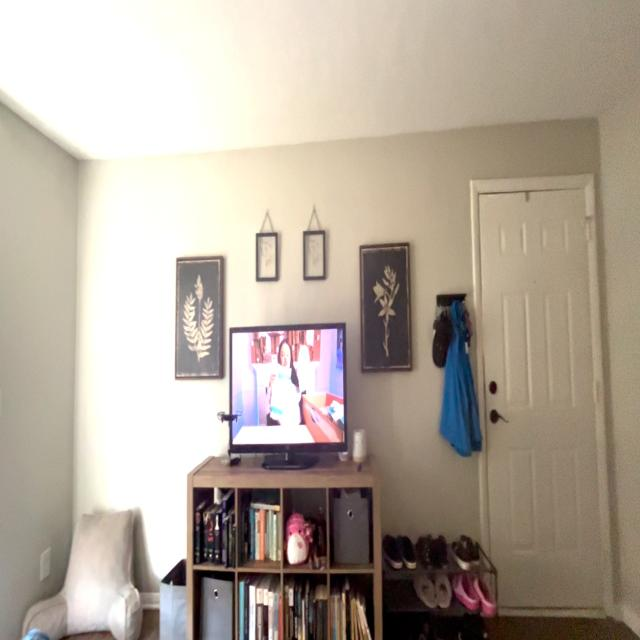drone: (206, 395, 246, 431)
